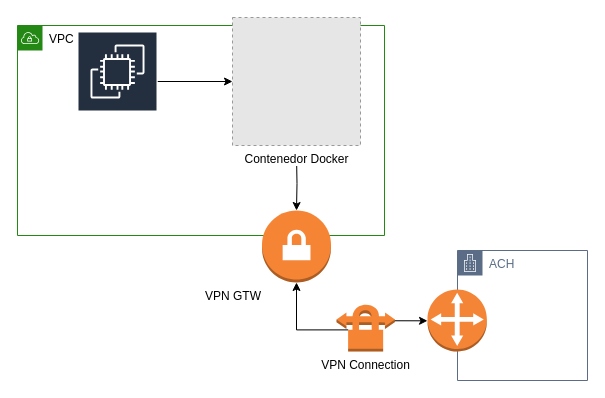
This 605x398 diagram has some shape labels left out. Grey dashed boxes stand in for pictures. Each missing label, with the centre of its shape:
"Customer GW" belongs at (456,320).
"EC2" belongs at (117,81).
